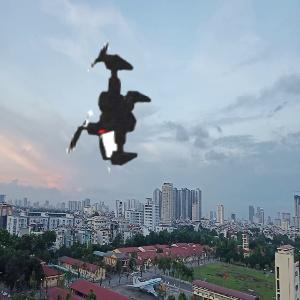drone: (14, 18, 196, 200)
